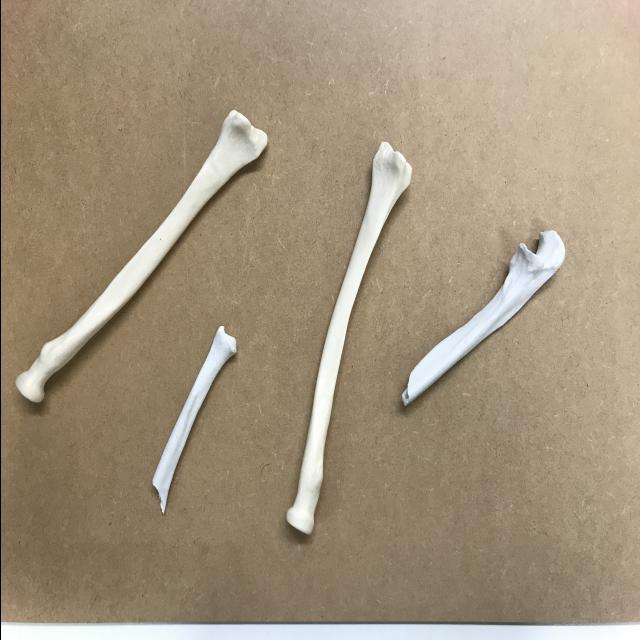bone: (12, 106, 270, 412), (278, 134, 418, 538), (396, 223, 572, 409), (143, 321, 238, 515)
